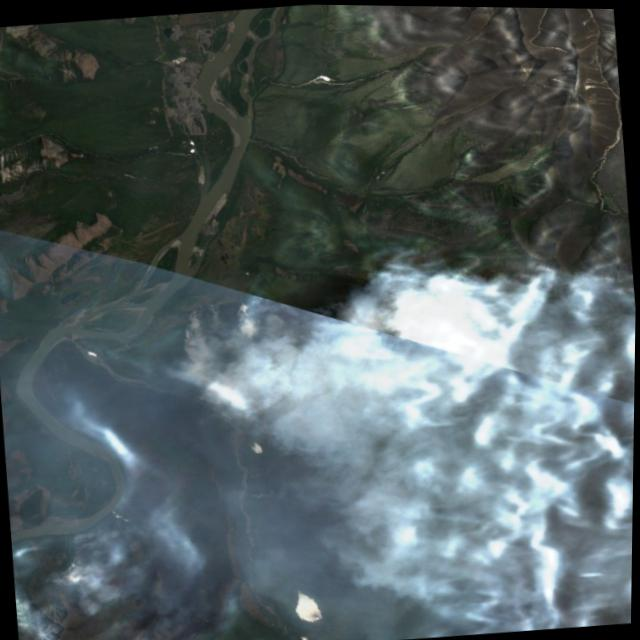fire: (162, 271, 461, 416), (57, 525, 100, 589)
